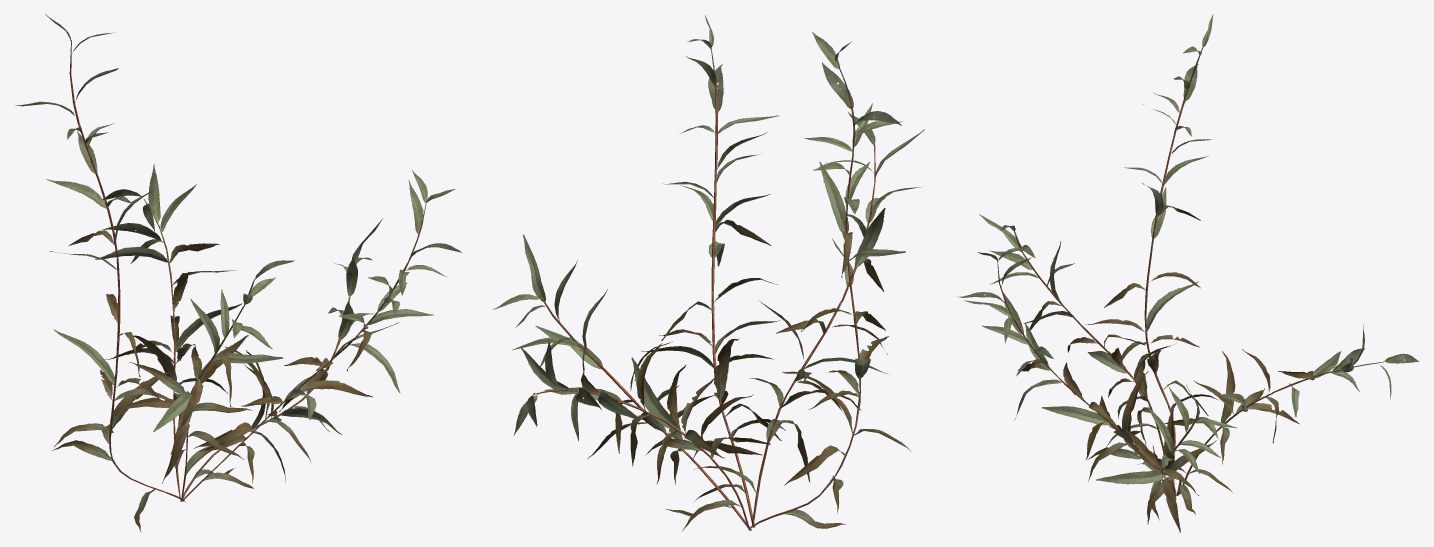
Rendered from shrub_round.glb.
The picture shows the model from 3 angles, left to right: view 1: azimuth 30°, elevation 25°; view 2: azimuth 150°, elevation 25°; view 3: azimuth 270°, elevation 25°; orthographic projection. The views are drawn at different scales.
Parts seen in each view (by area): view 1: shrub_02_a; view 2: shrub_02_a; view 3: shrub_02_a.
Part boxes in pixels (x1,y1,x2,y2): shrub_02_a: [15, 14, 461, 532]; shrub_02_a: [492, 15, 924, 531]; shrub_02_a: [957, 14, 1419, 532].
Bounding box in the file's own units: 1.31 × 1.69 × 1.64.
1 material, 1 textured.
